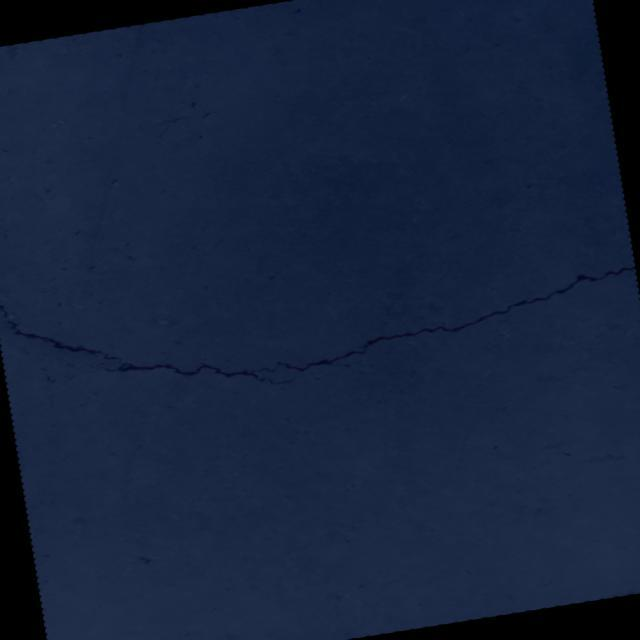crack: (0, 204, 640, 435), (67, 360, 96, 373)
